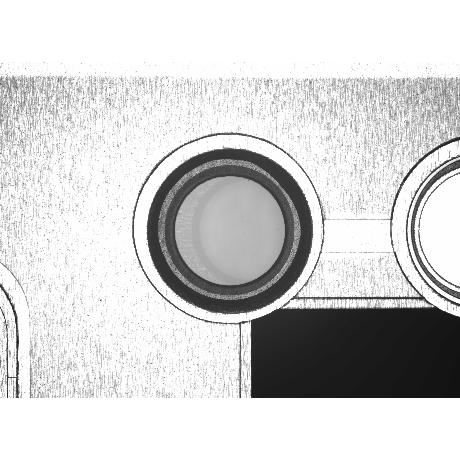Hole: (146, 149, 312, 315)
Hole2: (158, 161, 300, 300)
Hole3: (166, 166, 294, 296)
Hole4: (175, 176, 285, 286)
